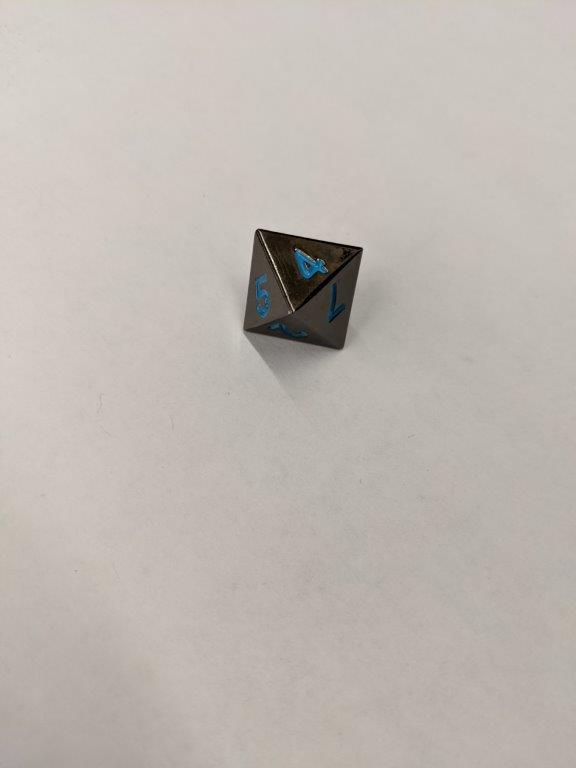d8-4: (238, 229, 366, 356)
